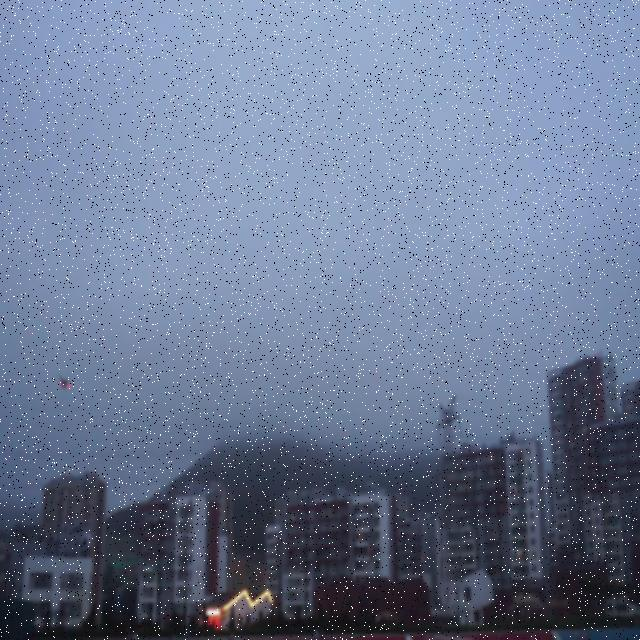UAV: (59, 375, 71, 389)
